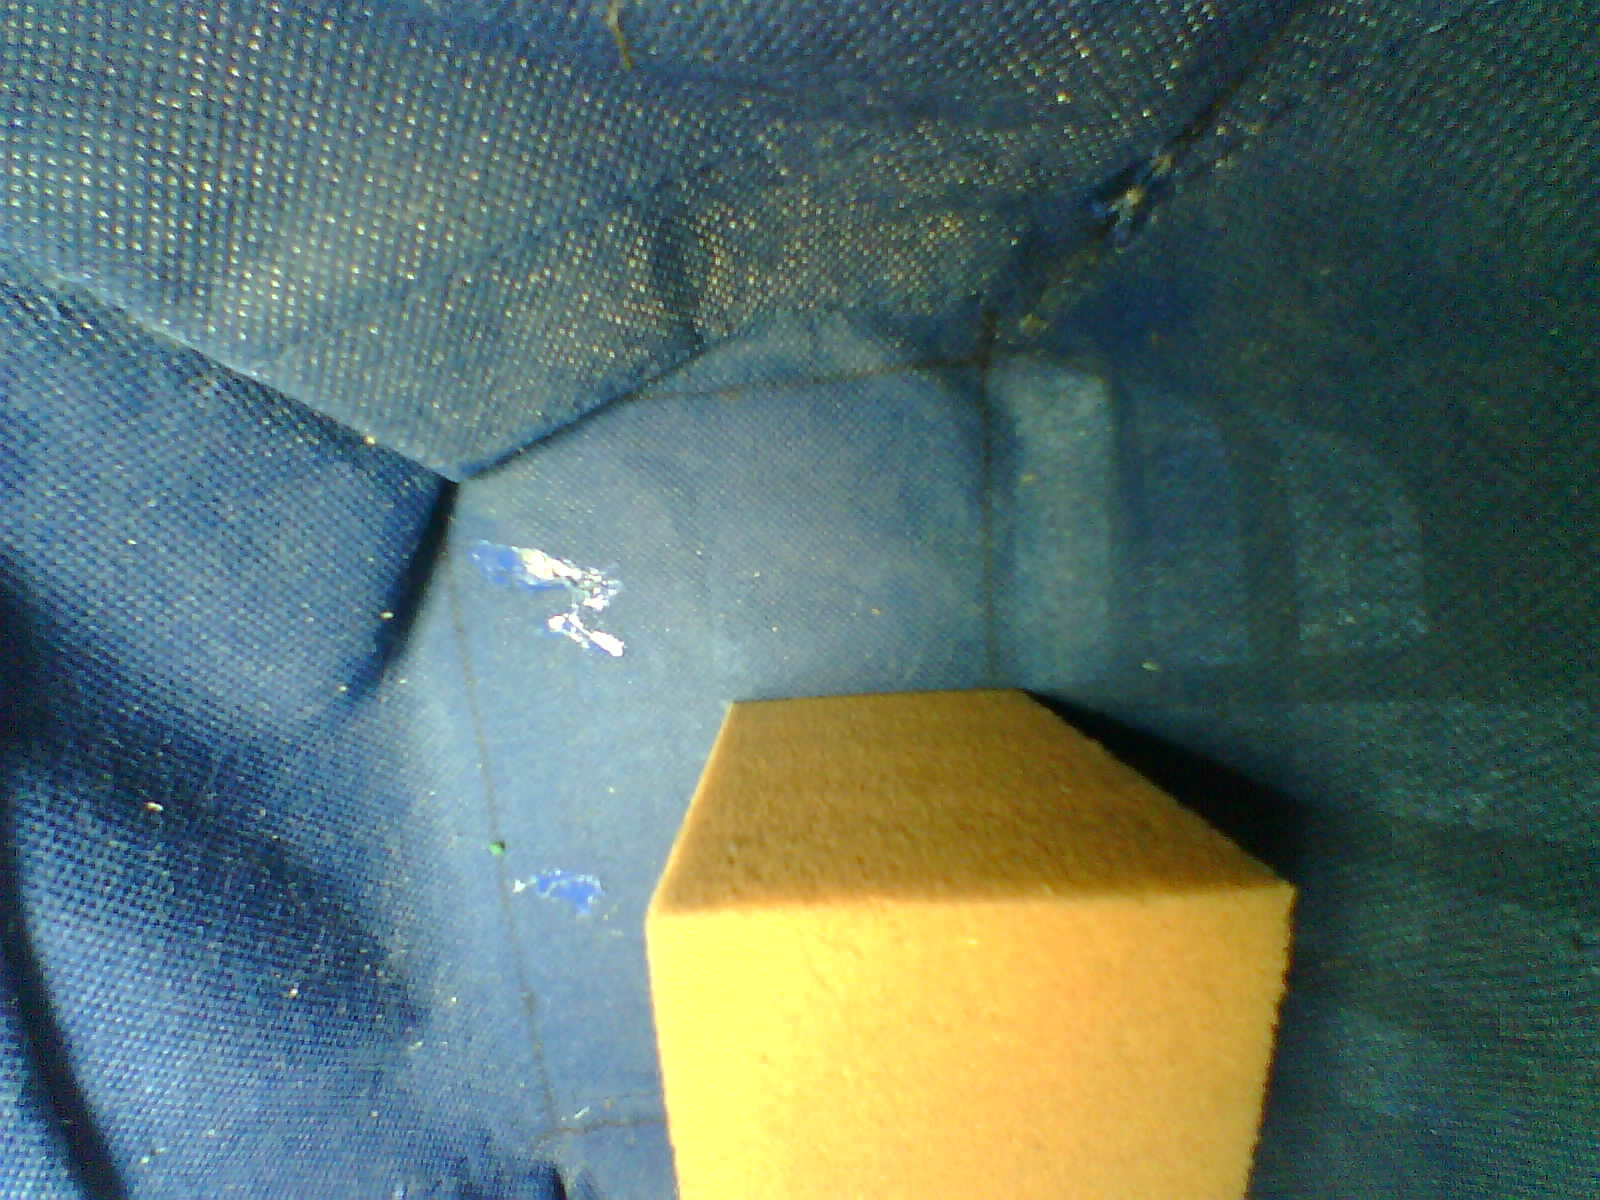cube-soft: (627, 668, 1309, 1200)
